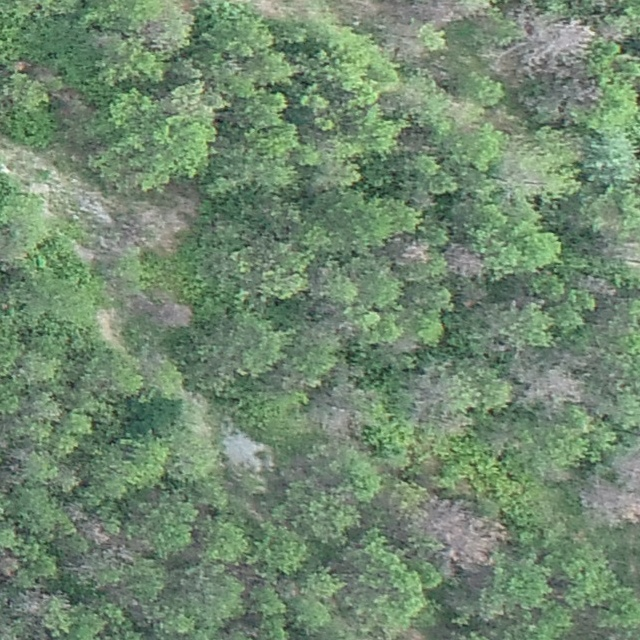unhealthy: (425, 498, 507, 568), (518, 15, 593, 78), (582, 475, 638, 528), (523, 367, 585, 408), (409, 373, 447, 415), (315, 401, 357, 438), (442, 244, 485, 278), (487, 44, 524, 82), (412, 0, 459, 24), (612, 447, 639, 488), (565, 77, 602, 106), (577, 273, 618, 298), (14, 588, 49, 616), (397, 239, 431, 265), (0, 547, 20, 580)
